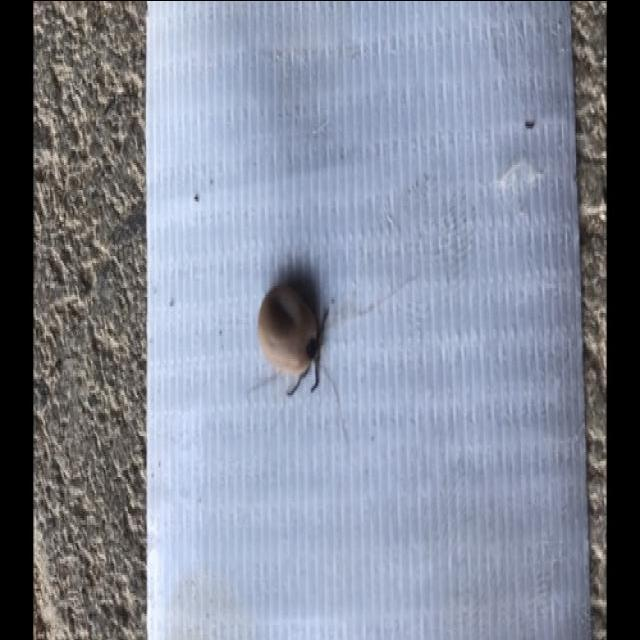Ixodes Ricinus-F-Fed: (256, 271, 328, 394)
